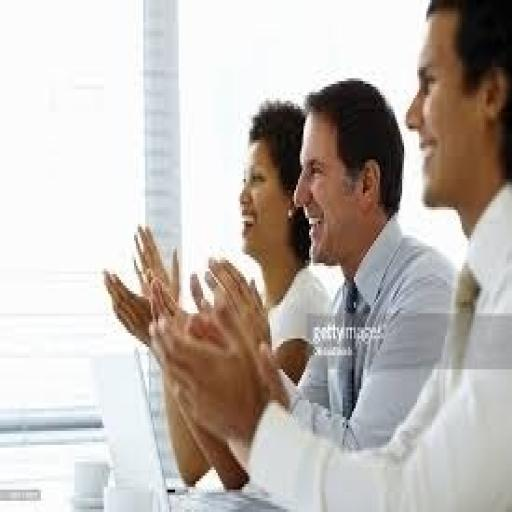clapping: (143, 0, 510, 509), (67, 77, 406, 489)
